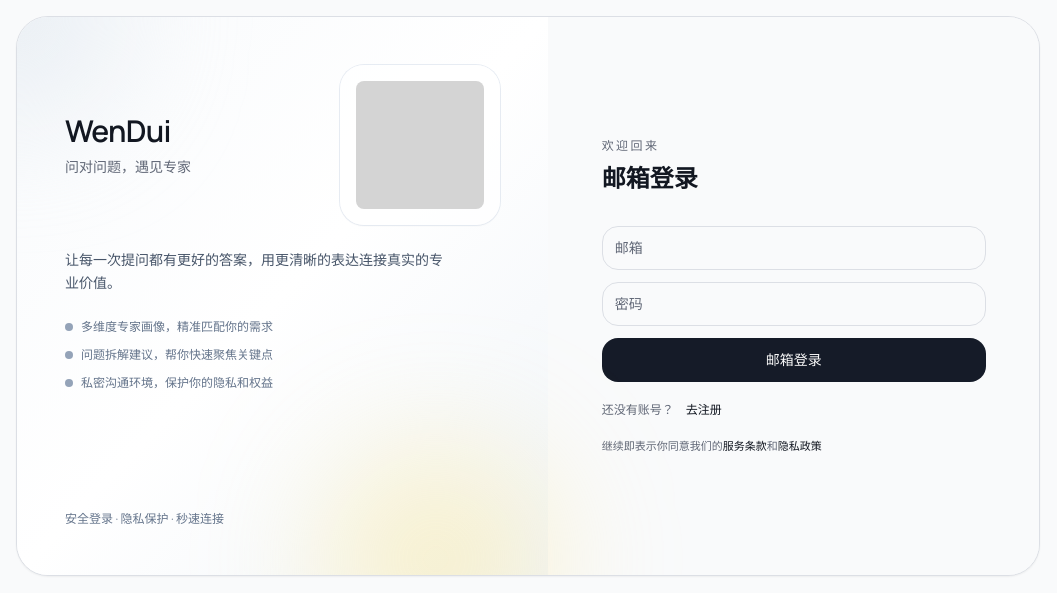
shows email validation error on submit
The width and height of the screenshot is (1057, 593).
In the field with placeholder "邮箱": (794, 248) [602,226,986,270], type "not-an-email"
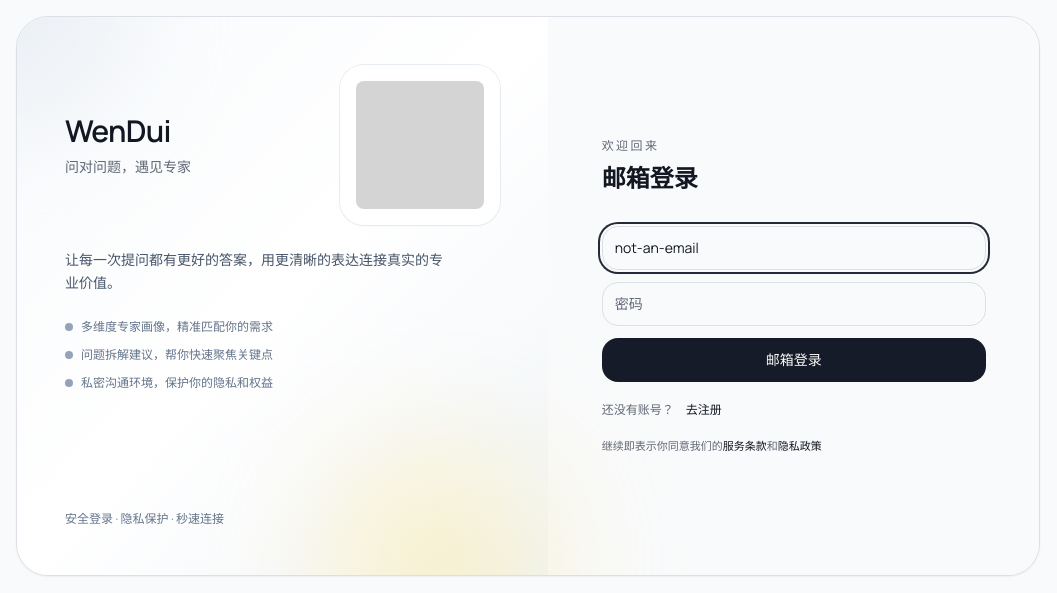
In the password field with placeholder "密码": (794, 304) [602,282,986,326], type "secret123"
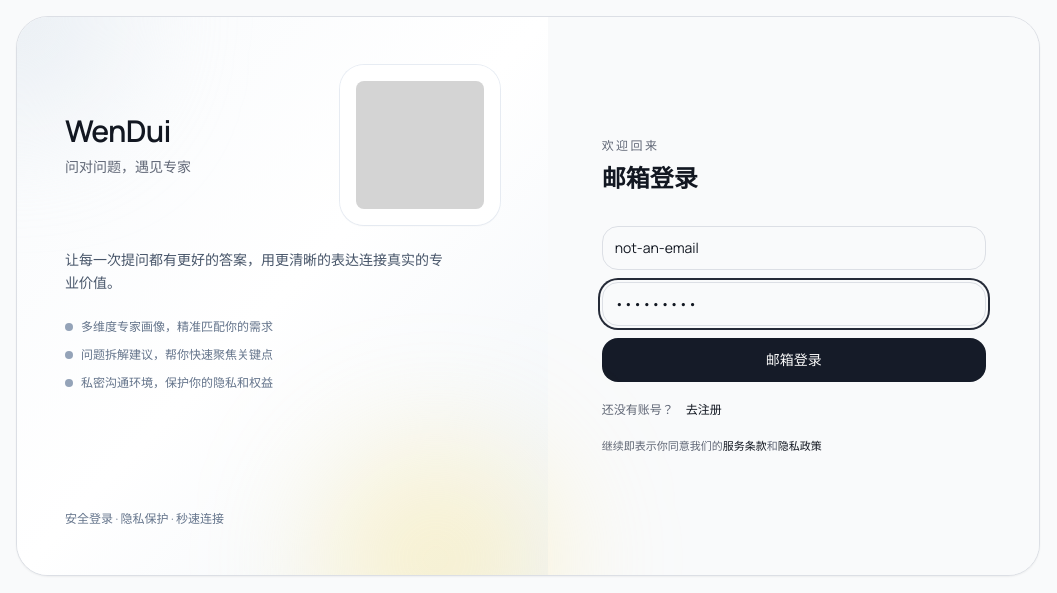
Click the button "邮箱登录": (794, 360) [602,338,986,382]
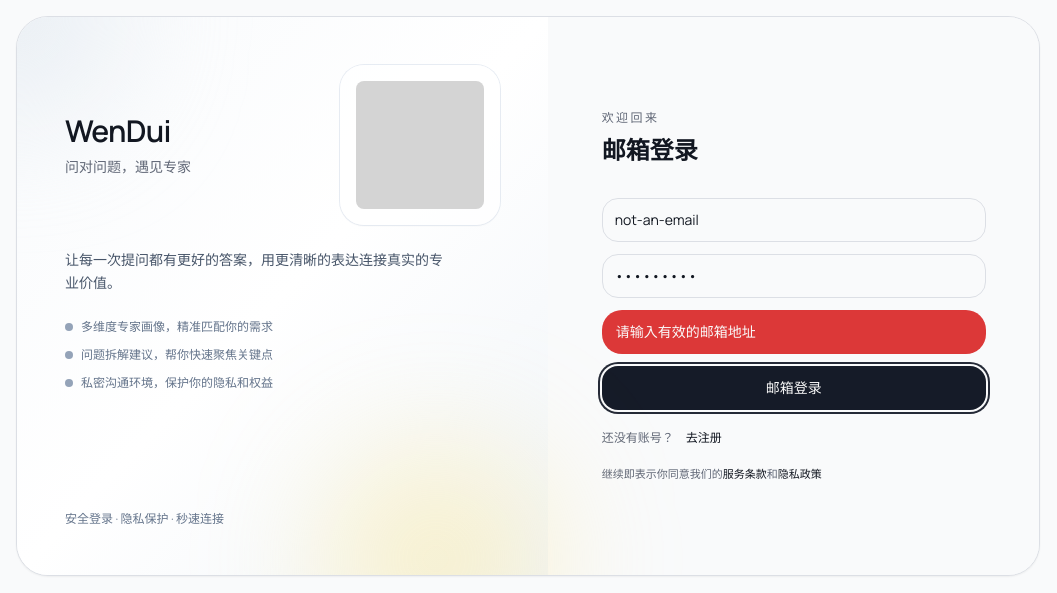
Expected: the text "请输入有效的邮箱地址" is shown, [616,322,756,342]
